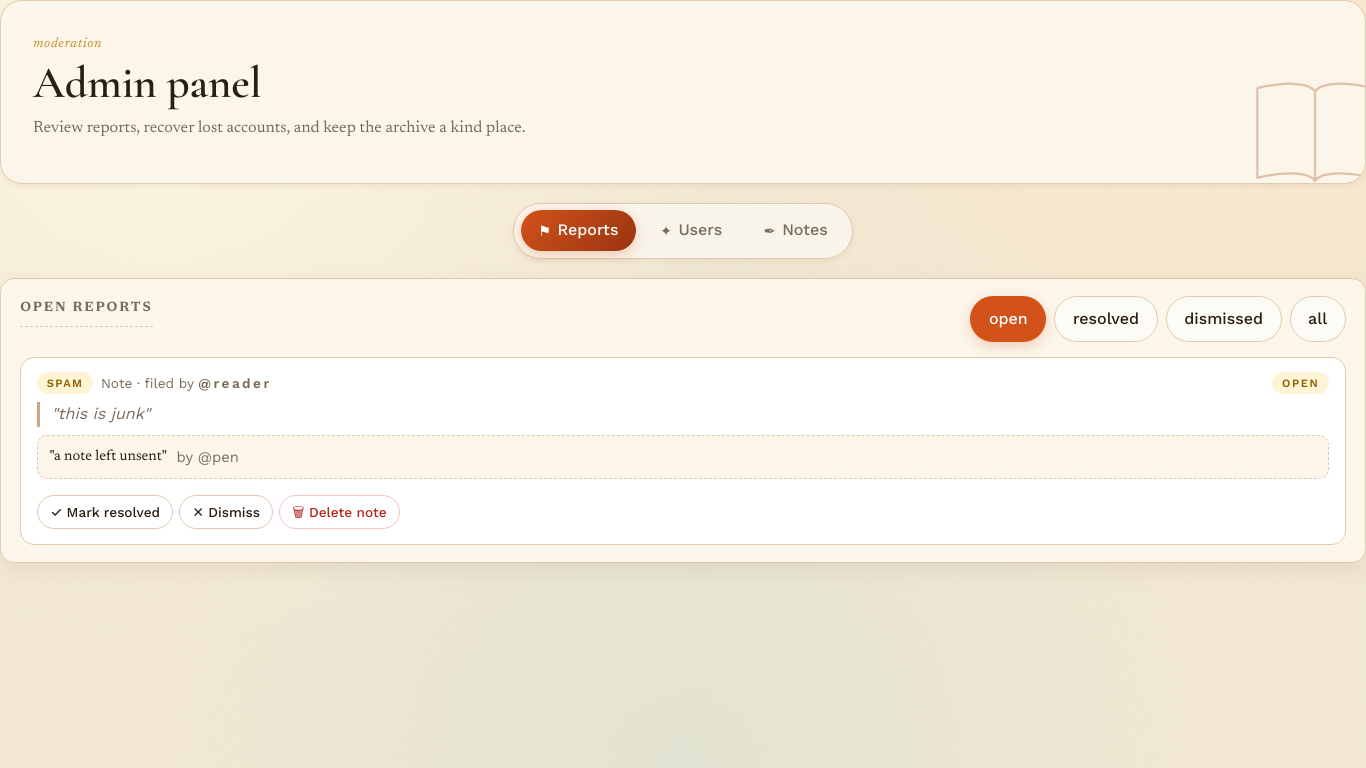
Test: AdminDashboard › re-queries reports when a status filter pill is clicked
Expected: the text "spam" is shown, [37, 372, 93, 394]
Click the button "resolved" at [1106, 319], box [1054, 296, 1158, 342]
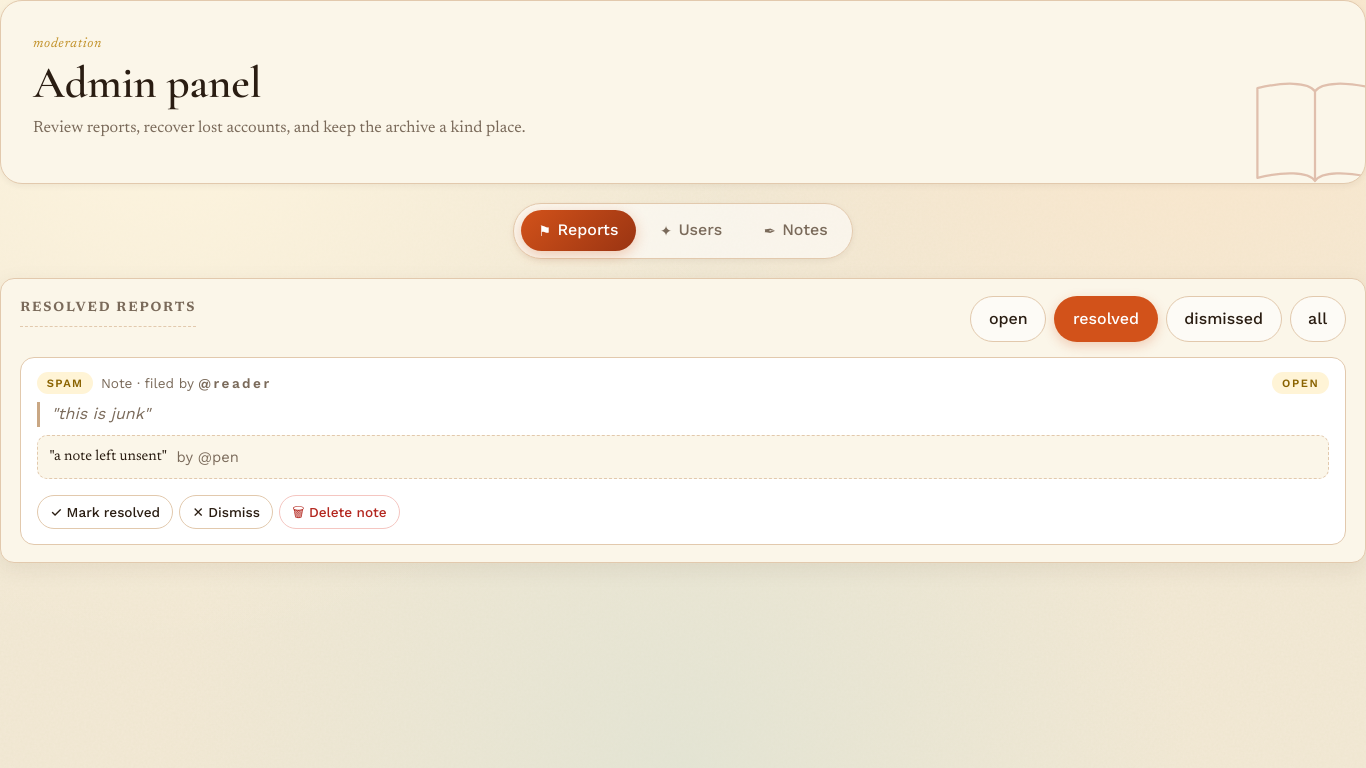
Expected: the heading "resolved reports" is shown, [20, 300, 196, 327]
